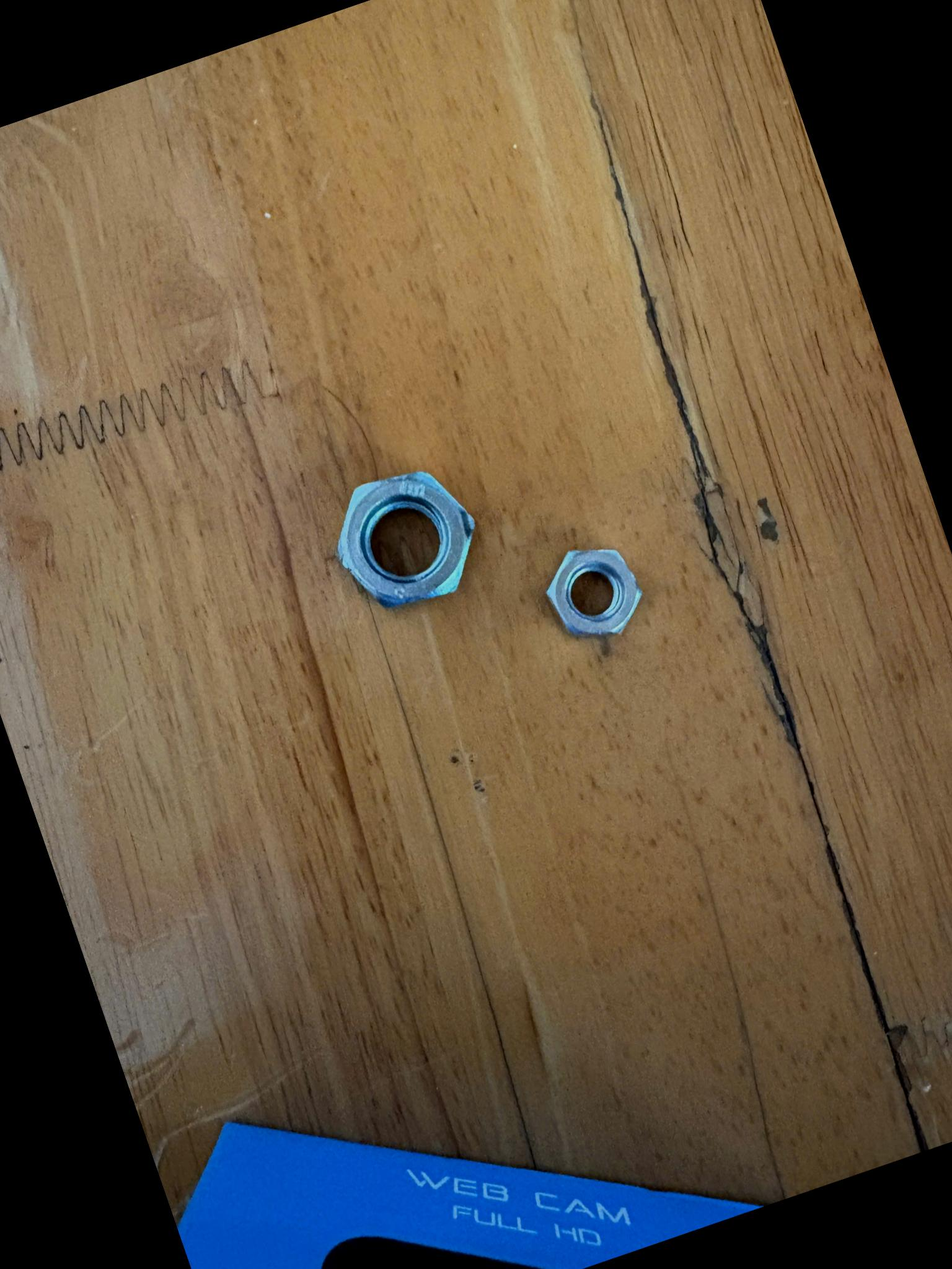nut: (304, 434, 504, 644), (522, 520, 666, 666)
